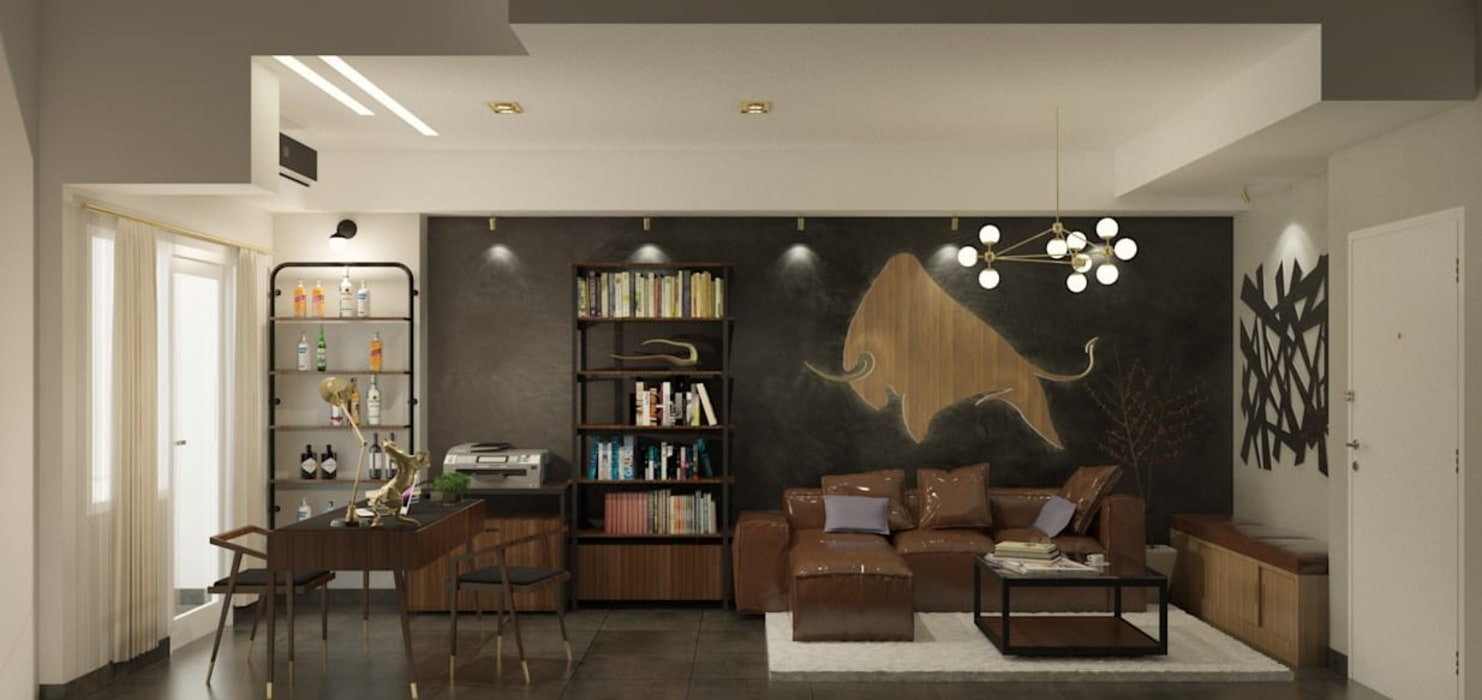bantal: (911, 463, 994, 529), (819, 492, 890, 533), (1034, 495, 1070, 531)
buku: (580, 273, 718, 316), (586, 437, 717, 478), (602, 493, 724, 533), (624, 379, 720, 426), (989, 538, 1063, 563)
kursi: (451, 515, 577, 673), (203, 521, 324, 685)
meja: (968, 552, 1178, 658)
sova: (737, 471, 1170, 641)
